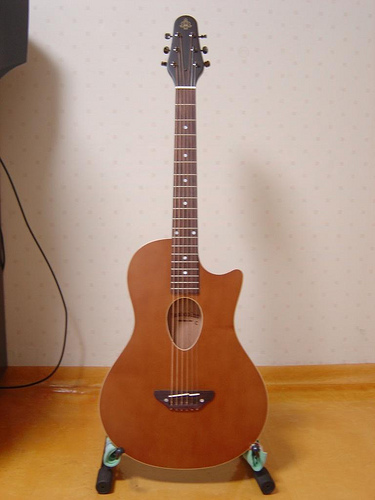guitar: (97, 10, 271, 474)
